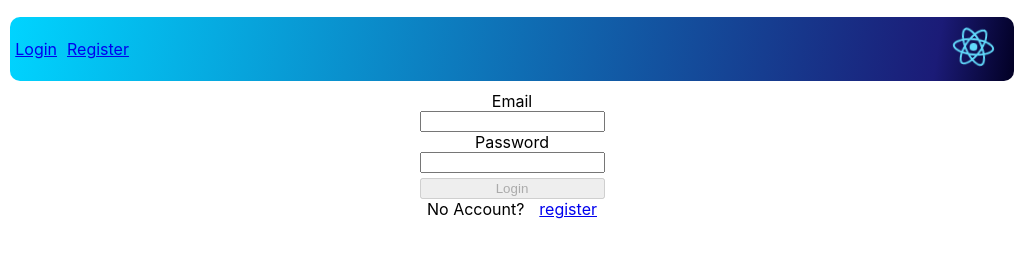
Test case: Login e2e tests › bad email
Type "not_actually_email" into the field with id "emailInput" at point(513, 122), box x1=420 y1=111 x2=605 y2=132
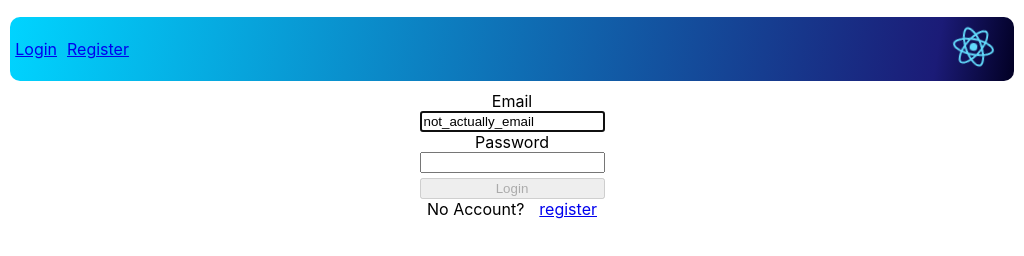
Type "123" into the password field at point(513, 163), box x1=420 y1=152 x2=605 y2=173
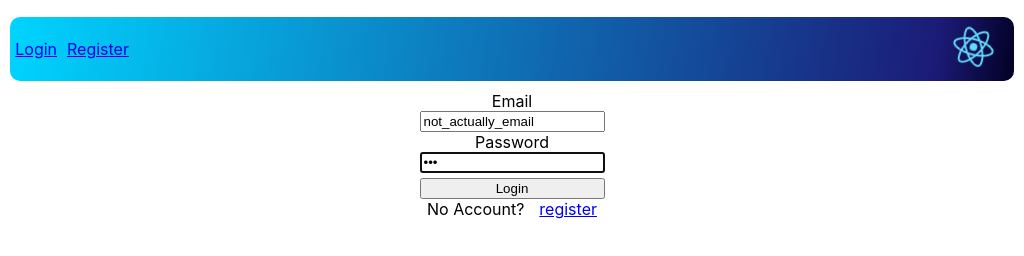
Click the button "Login" at point(513, 189), box x1=420 y1=178 x2=605 y2=199
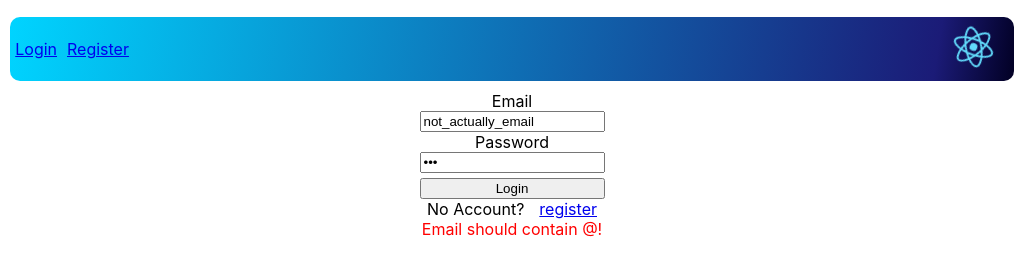
expect the text with class "error" reads "Email should contain @!": met, box x1=420 y1=219 x2=605 y2=239
